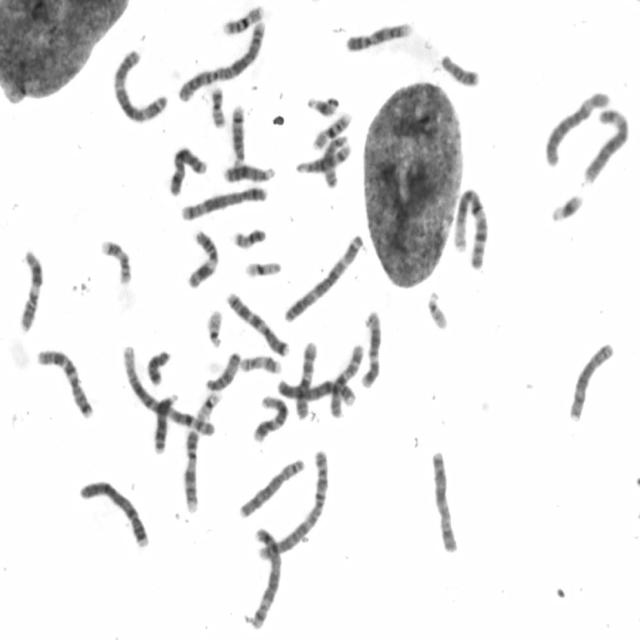A1: (118, 341, 216, 438), (450, 185, 490, 271)
A2: (254, 446, 332, 561), (175, 18, 269, 104)
A3: (280, 230, 366, 324), (110, 46, 169, 125)
B4: (75, 475, 151, 551), (273, 374, 357, 407)
B5: (245, 522, 283, 632), (178, 182, 270, 223)
C10: (327, 340, 365, 420), (292, 338, 319, 422)
C11: (15, 247, 44, 335), (185, 227, 220, 291)
C12: (249, 392, 290, 446), (358, 307, 383, 391)
C6: (541, 88, 611, 168), (581, 104, 630, 184)
C7: (34, 345, 96, 421), (224, 289, 291, 359)
C8: (235, 455, 307, 520), (566, 339, 615, 423)
C9: (343, 19, 414, 54), (180, 427, 201, 514)
D13: (150, 390, 178, 454), (220, 160, 276, 186)
D14: (292, 133, 351, 176), (228, 102, 247, 164)
D15: (202, 348, 242, 392), (322, 133, 349, 189)
E16: (308, 110, 353, 152), (218, 4, 265, 36)
E17: (99, 237, 133, 287), (237, 352, 284, 376)
E18: (439, 51, 480, 88), (144, 347, 173, 387)
F19: (194, 389, 223, 422), (242, 258, 284, 280)
F20: (230, 225, 268, 251), (208, 84, 227, 130)
G21: (548, 190, 586, 224), (304, 93, 341, 118)
G22: (424, 287, 450, 332), (205, 306, 225, 350)
X: (429, 448, 459, 556), (166, 142, 209, 197)
